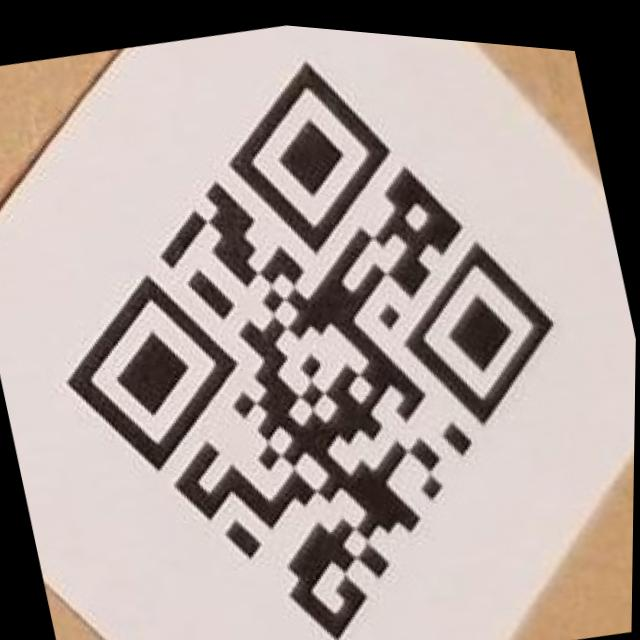QR_CODE: (0, 0, 622, 640)
